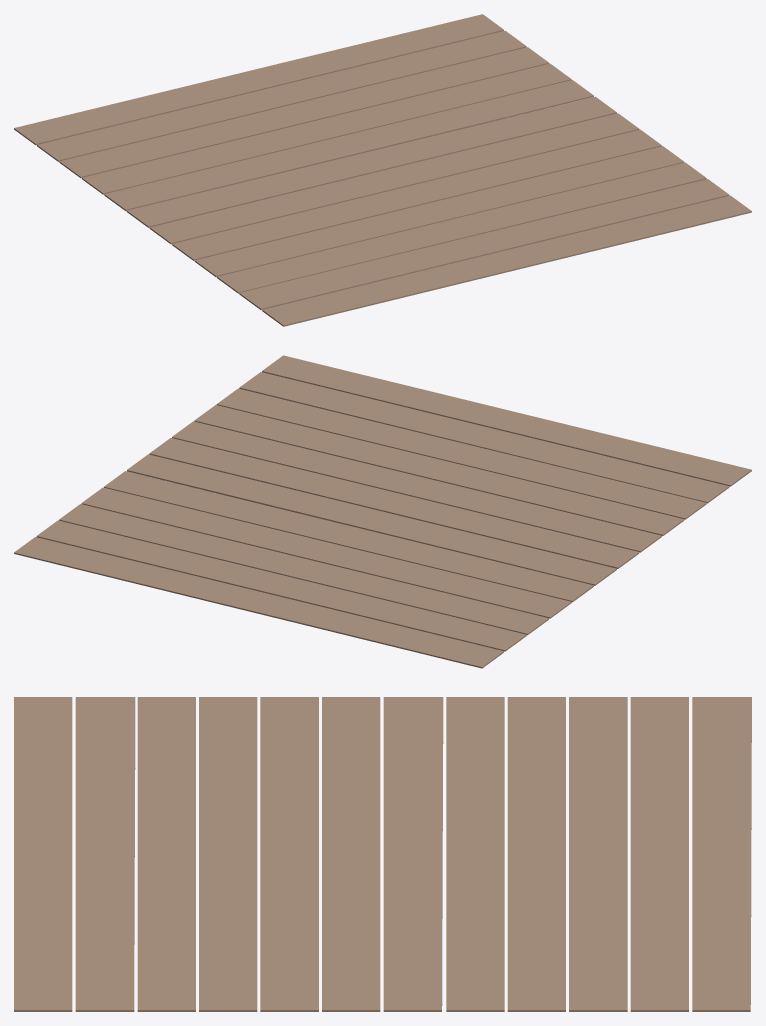
Rendered from Parquet_6.fbx.
3 renders of one model, top to bottom at view 1: azimuth 30°, elevation 25°; view 2: azimuth 150°, elevation 25°; view 3: azimuth 270°, elevation 25°, orthographic. The views are drawn at different scales.
Parts seen in each view (by area): view 1: Parquet_6; view 2: Parquet_6; view 3: Parquet_6.
Boxes of the visible parts, left/top/right/bottom form: Parquet_6: left=14, top=14, right=751, bottom=326; Parquet_6: left=14, top=355, right=751, bottom=668; Parquet_6: left=14, top=697, right=751, bottom=1011.
Size of the model in its own units: 489 by 488 by 1.41.
